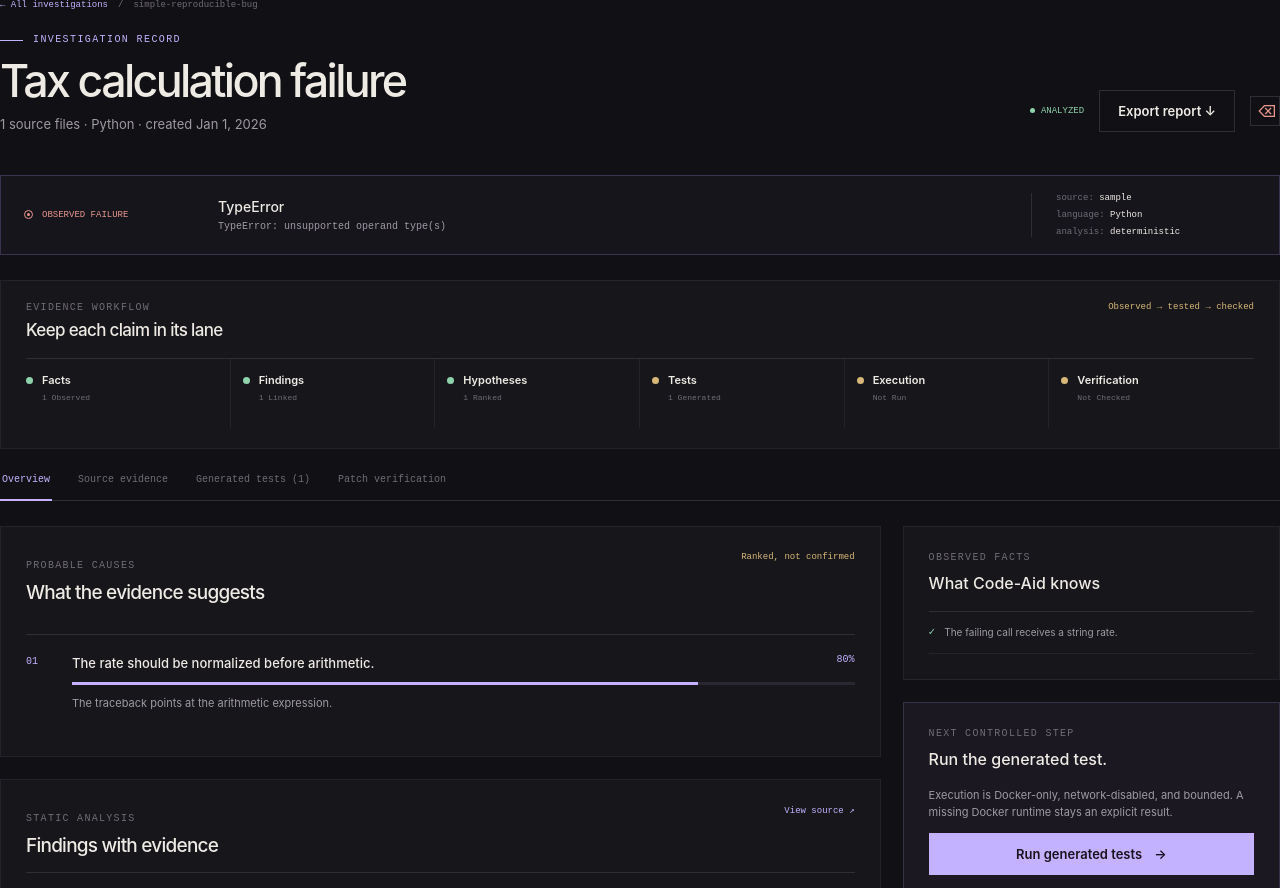
Test case: investigation status workflow › separates evidence stages and records an isolated execution receipt
Expected: the heading "Keep each claim in its lane" is shown, [26,320,222,340]
Expected: the button with aria-label "Facts: 1 observed" is shown, [26,359,231,428]
Click the button with aria-label "Execution: not run".
click(947, 393)  # box [845,359,1049,428]
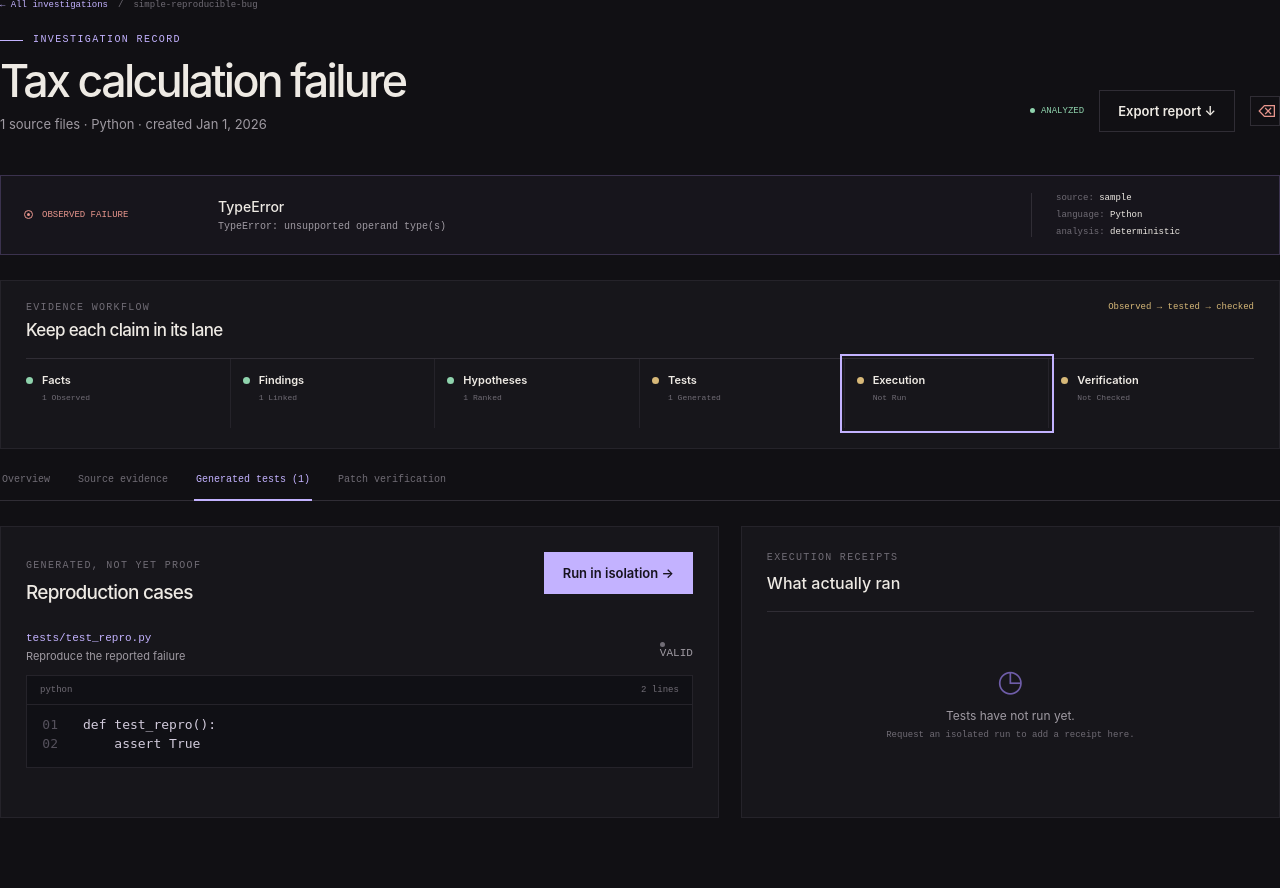
Click the button "Run in isolation →".
click(618, 573)  # box [544,552,693,594]
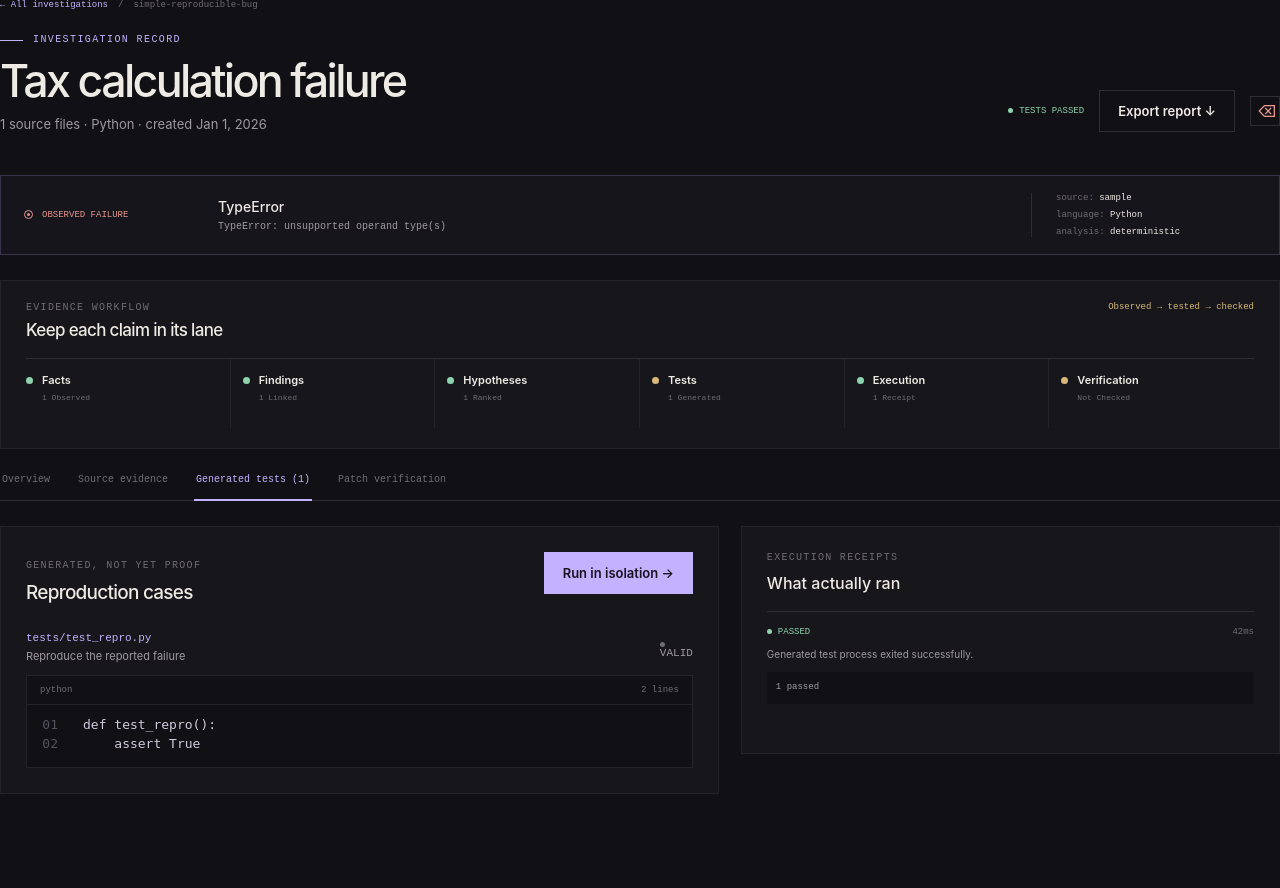
Expected: the text "Generated test process exited successfully." is shown, [767,648,973,660]
Expected: the text "1 passed" is shown, [767,672,1254,704]
Expected: the text "passed" is shown, [767,627,810,637]
